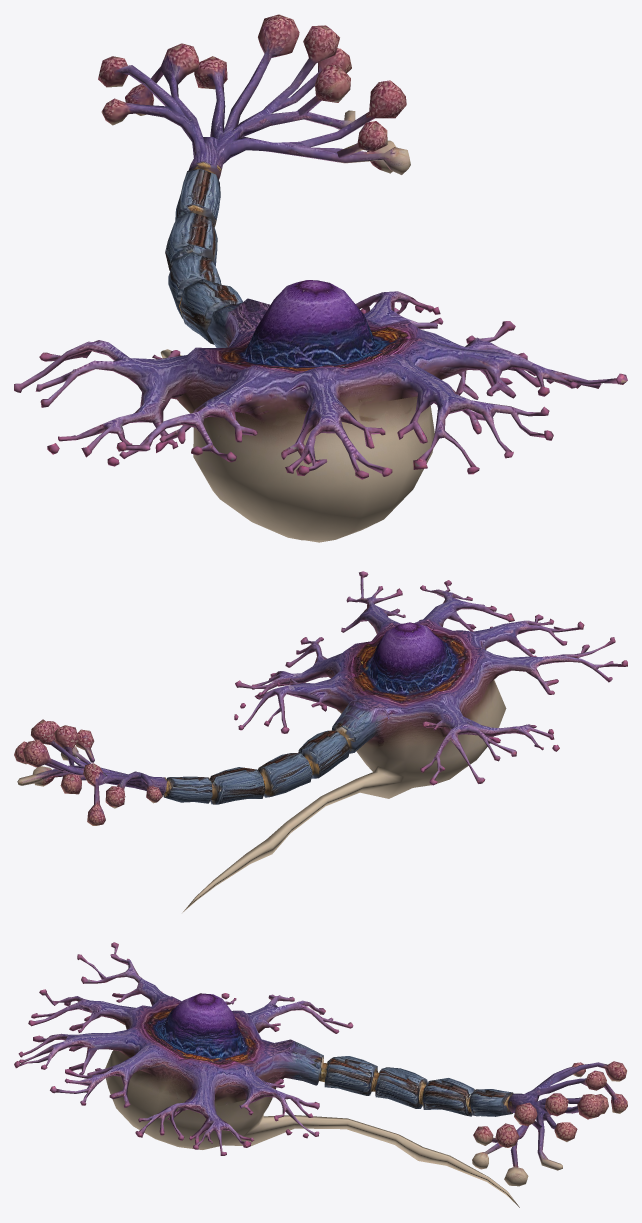
Rendered from neuron-tripo.failed-tripo.glb.
3 renders of one model, top to bottom at view 1: azimuth 30°, elevation 25°; view 2: azimuth 150°, elevation 25°; view 3: azimuth 270°, elevation 25°, orthographic. The views are drawn at different scales.
Parts seen in each view (by area): view 1: tripo_node_3f72429d-c09d-4a8d-8c5c-29c2b764ad85; view 2: tripo_node_3f72429d-c09d-4a8d-8c5c-29c2b764ad85; view 3: tripo_node_3f72429d-c09d-4a8d-8c5c-29c2b764ad85.
Boxes of the visible parts, box(x1,y1,x2,y2) form: tripo_node_3f72429d-c09d-4a8d-8c5c-29c2b764ad85: box(14, 14, 627, 542); tripo_node_3f72429d-c09d-4a8d-8c5c-29c2b764ad85: box(14, 571, 627, 912); tripo_node_3f72429d-c09d-4a8d-8c5c-29c2b764ad85: box(14, 942, 627, 1207).
Bounding box in the file's own units: 0.7056 × 0.3223 × 0.9923.
1 material, 1 textured.
